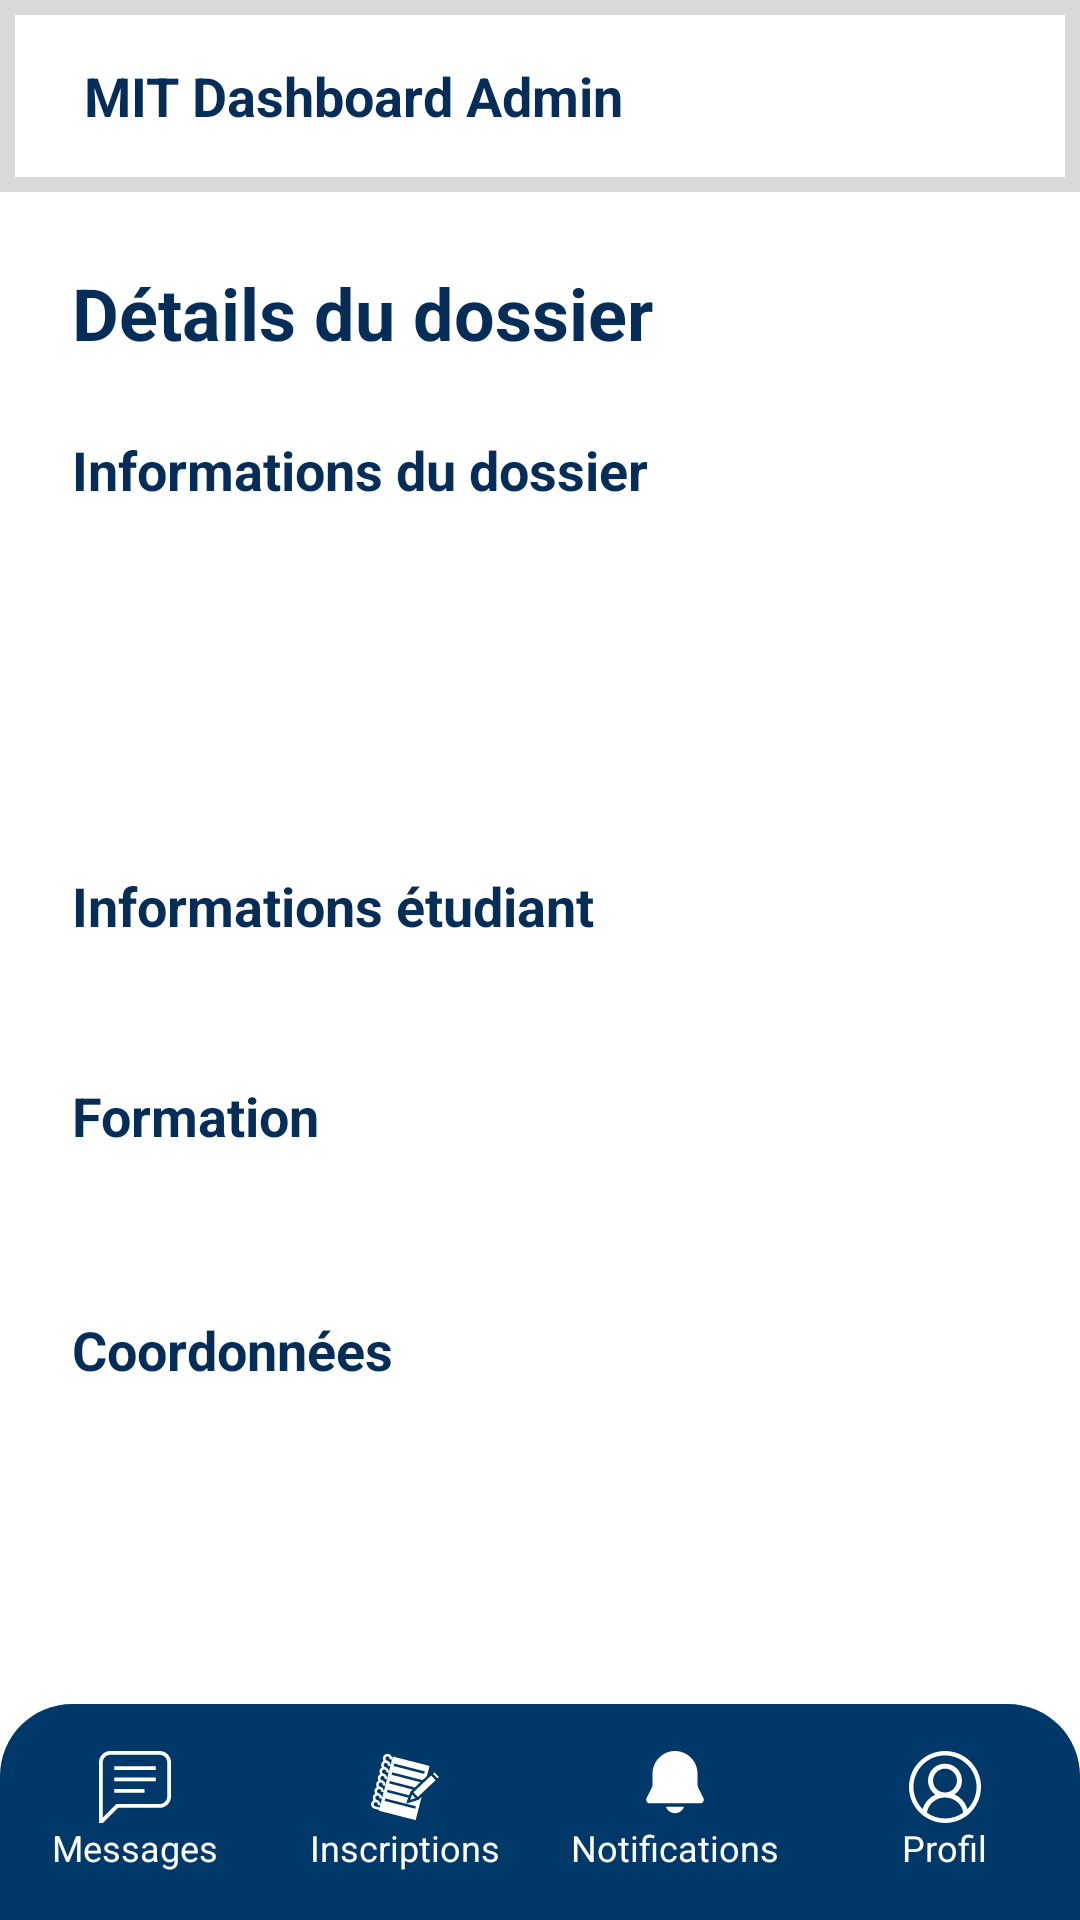

Locate icon controls on the screen. Image size 1080w x 1920h, boxes as (x1, y1, x2, y2).
Notes: (371, 1753, 439, 1820)
